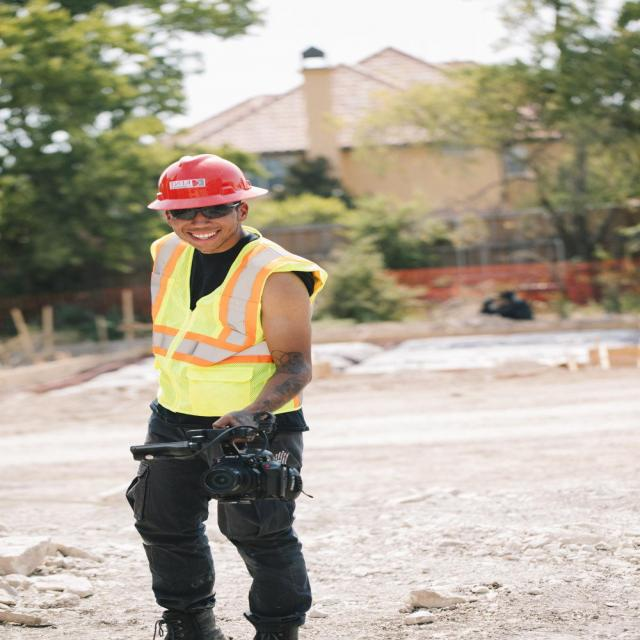Reflective-Jacket: (148, 234, 332, 420)
Safety-Helmet: (146, 151, 268, 213)
